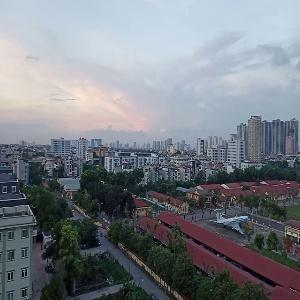drone: (176, 186, 205, 215)
